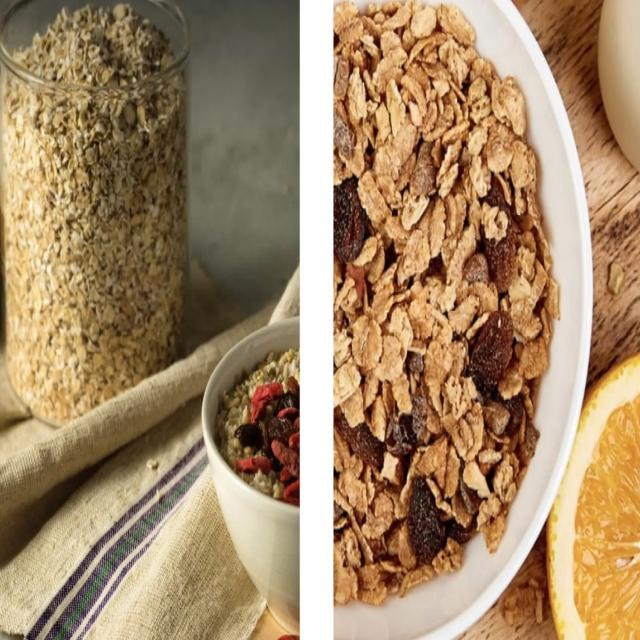avena: (333, 3, 557, 604)
